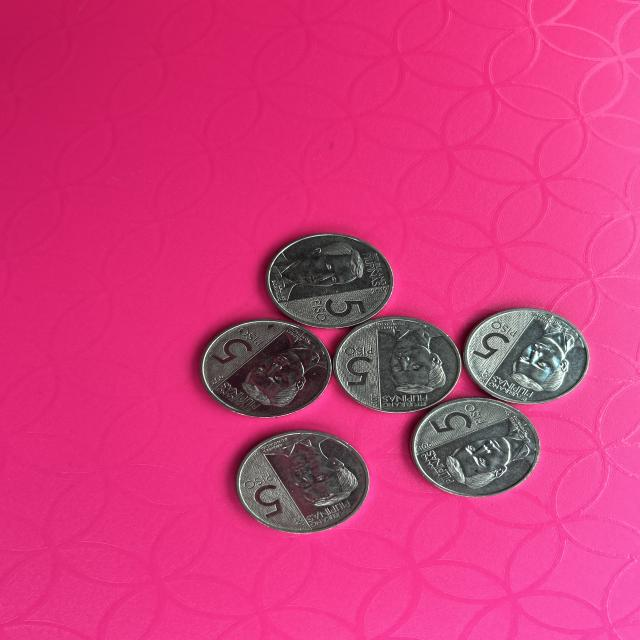5_New_Front: (422, 402, 494, 438), (244, 471, 288, 526), (460, 319, 509, 367), (336, 344, 378, 391), (209, 326, 258, 365), (313, 292, 367, 327)
